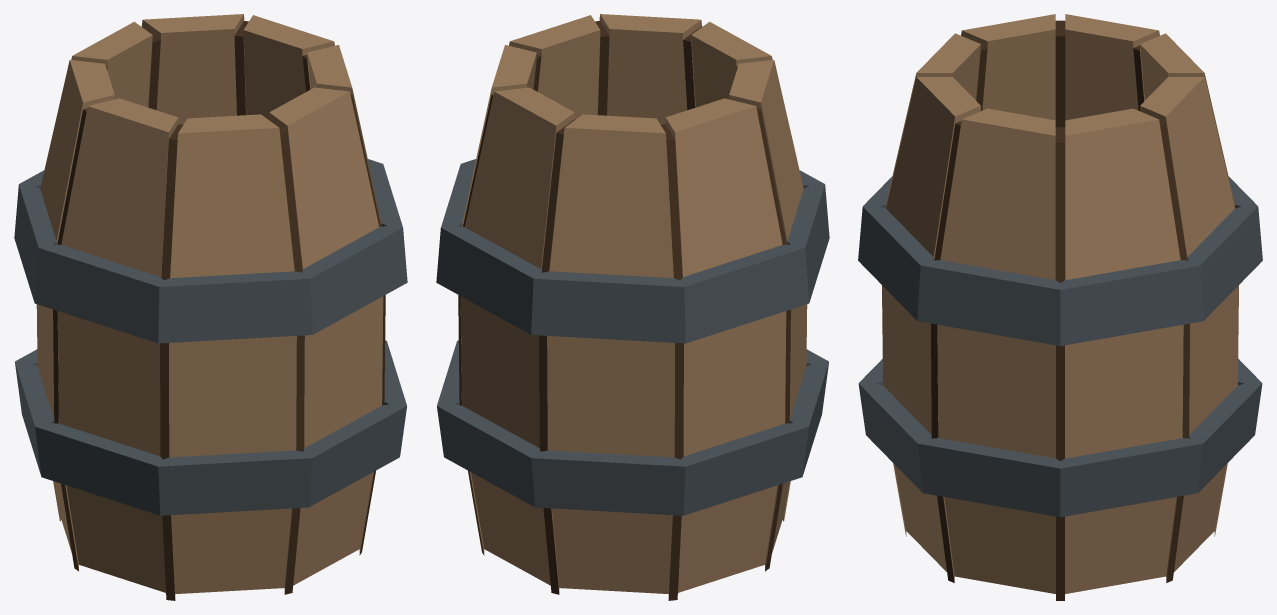
File: Barrel 1.fbx
3 renders of one model, left to right at view 1: azimuth 30°, elevation 25°; view 2: azimuth 150°, elevation 25°; view 3: azimuth 270°, elevation 25°, orthographic.
Parts seen in each view (by area): view 1: Barrel 1; view 2: Barrel 1; view 3: Barrel 1.
Part boxes in pixels (x1,y1,x2,y2): Barrel 1: (14, 14, 407, 600); Barrel 1: (436, 14, 829, 600); Barrel 1: (858, 14, 1262, 600).
Size of the model in its own units: 32.02 by 40.21 by 32.02.
